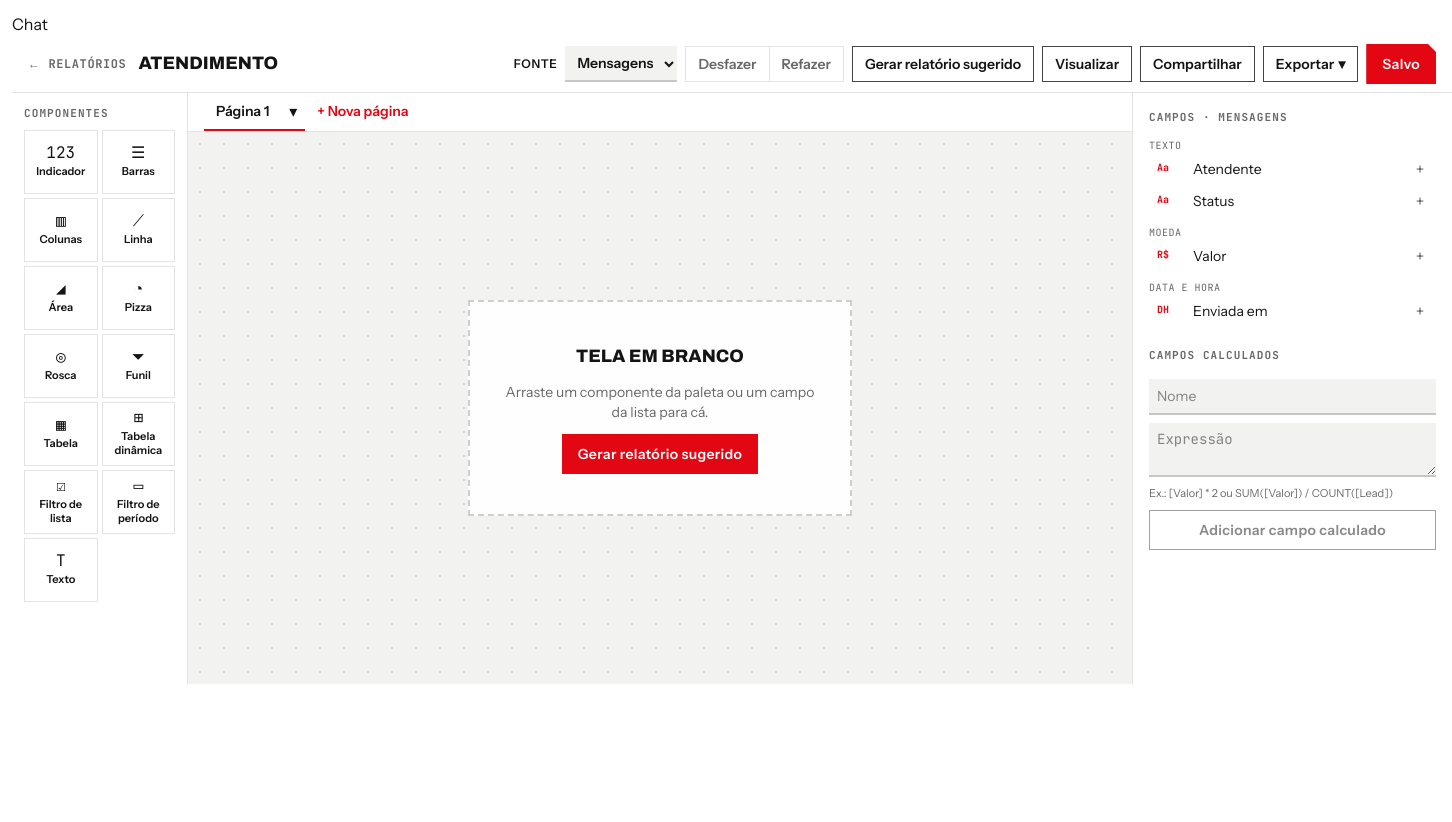
ReportEditor › replaces the page with the suggested report, undoably
What coordinates should you click on to do the following:
click the button "Gerar relatório sugerido" in the row of "Fonte"
I would click on:
 (943, 64)
Its box is [852,46,1034,82].
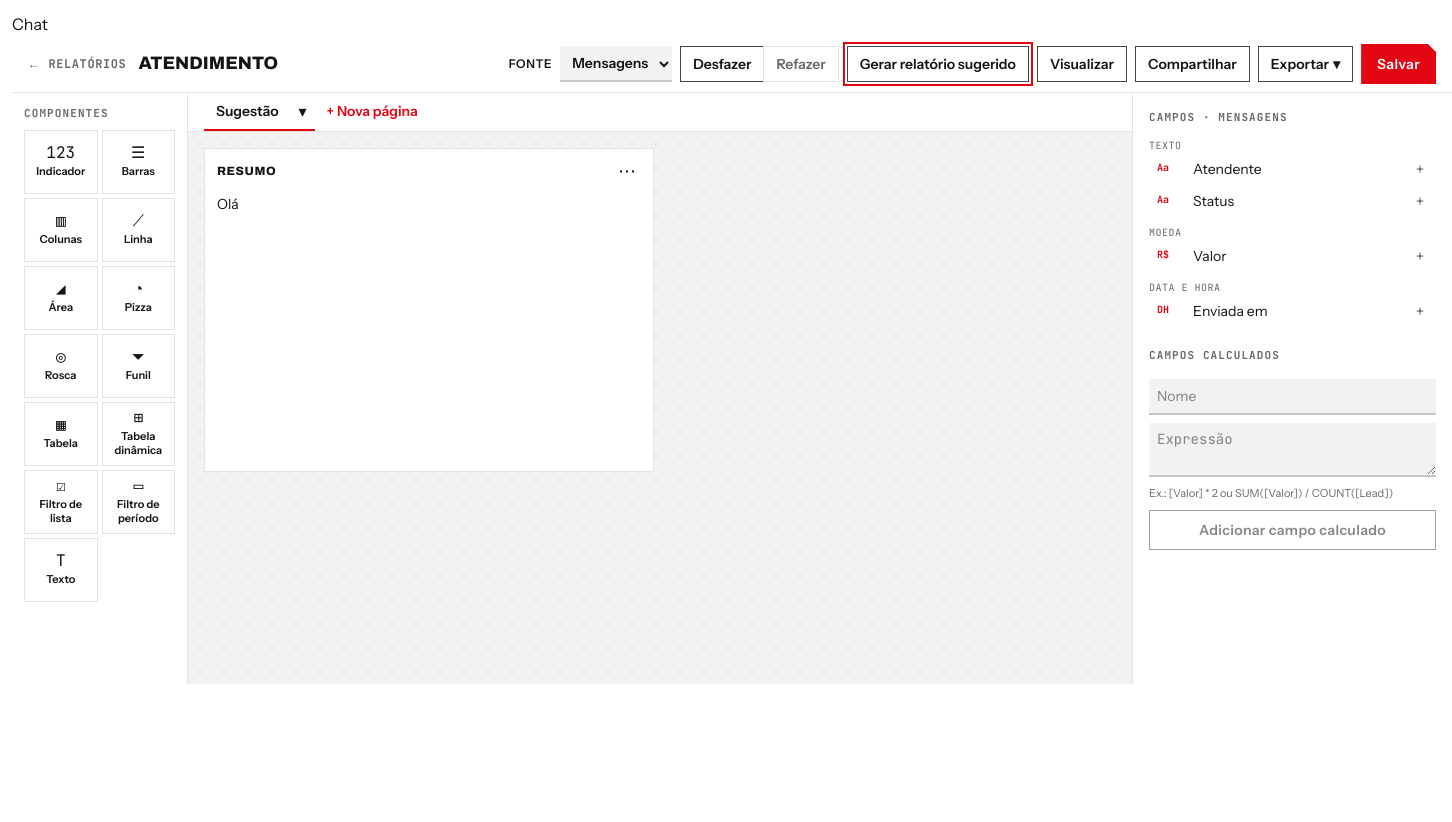
Expected: the element named "Componente Resumo" is shown, [204,148,654,472]
What coordinates should you click on to do the following:
click the button "Desfazer"
I would click on:
 (722, 64)
Its box is [680,46,764,82].
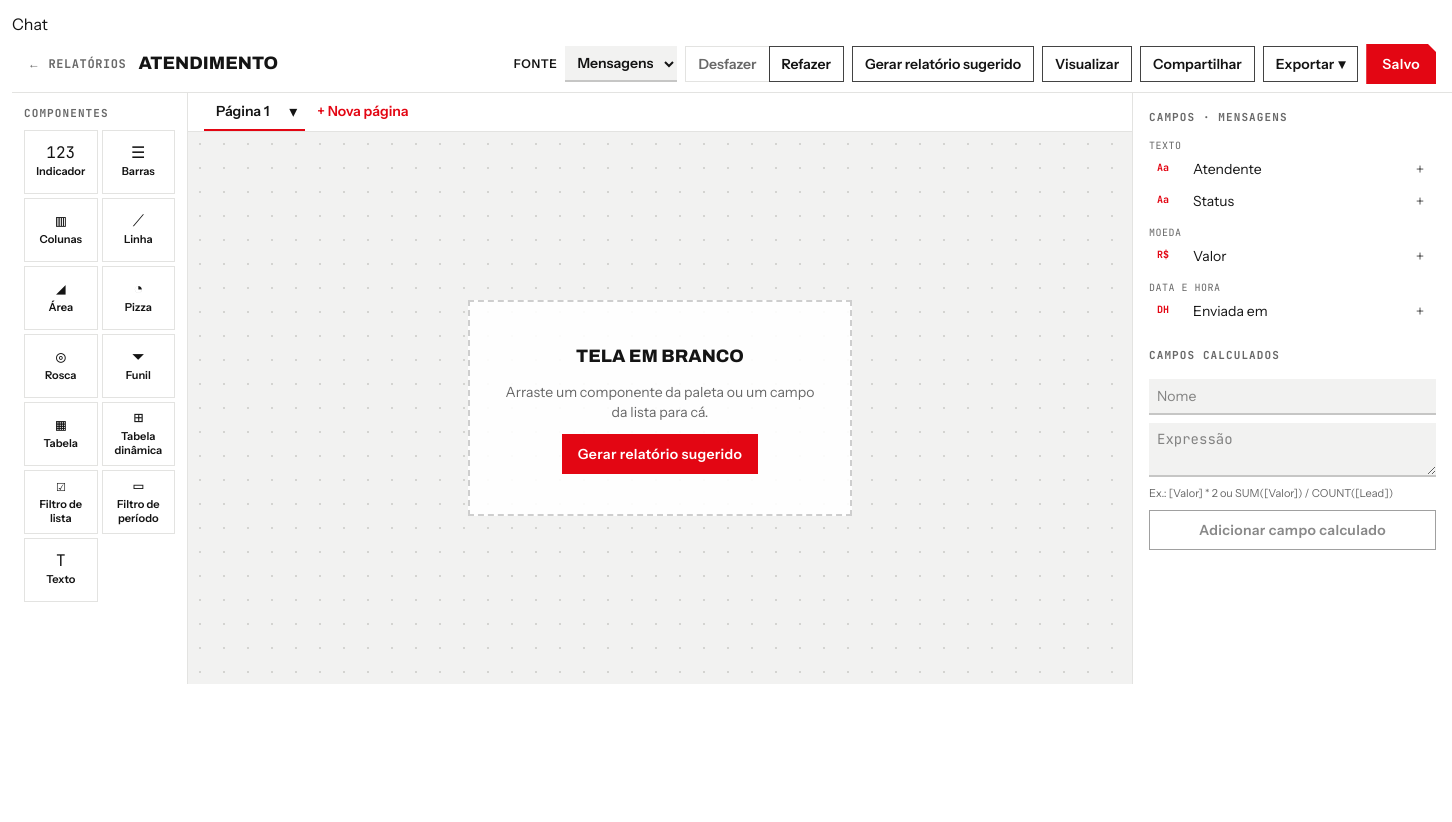
Expected: the button "Componente Resumo" is gone
